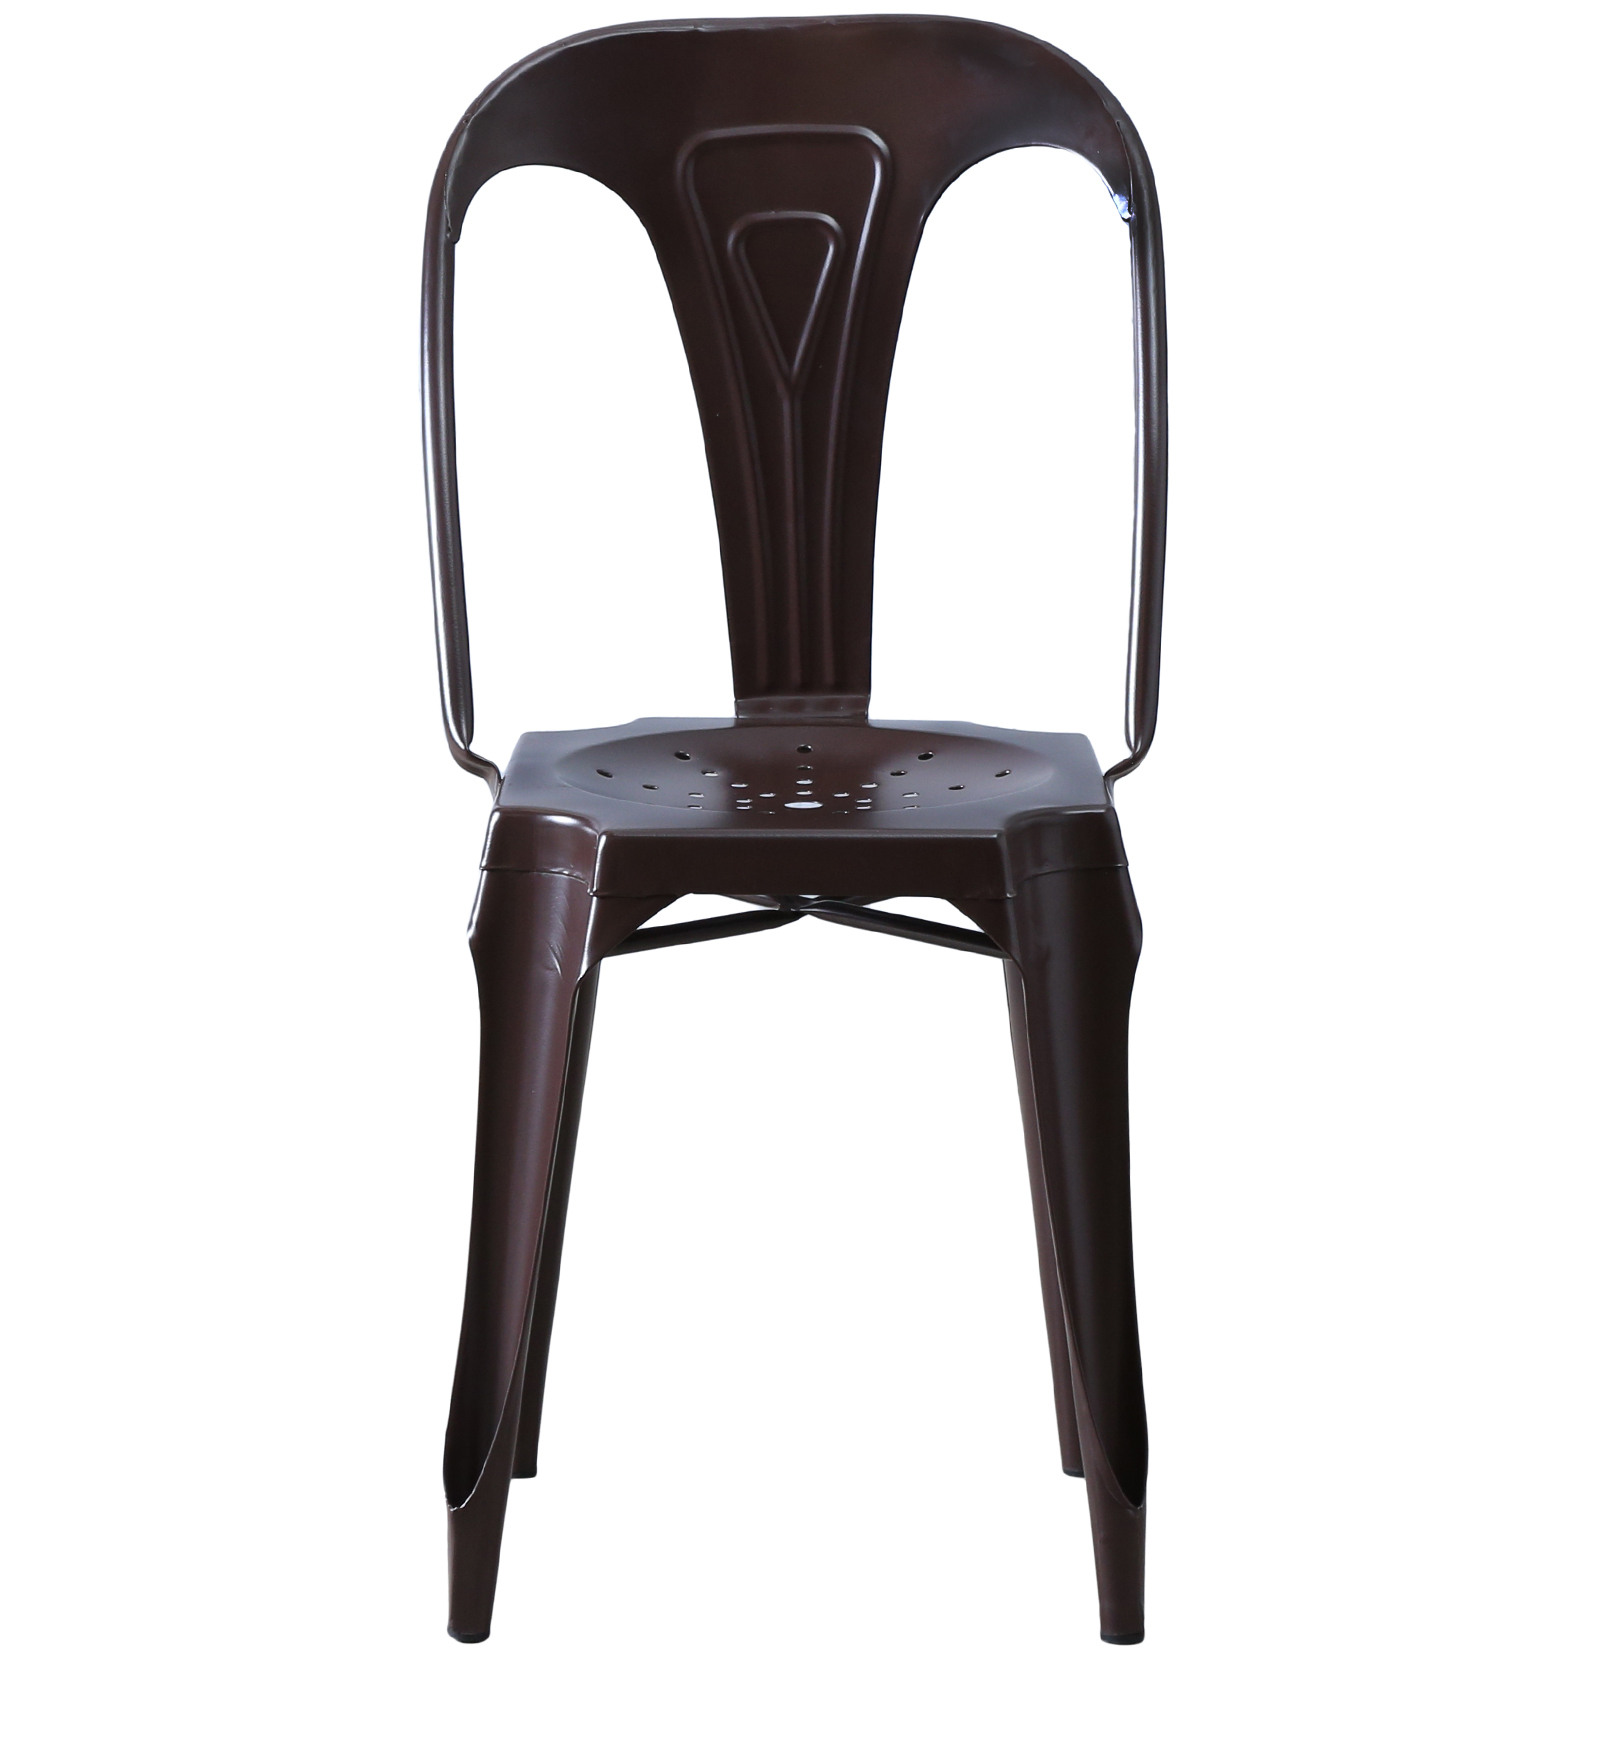Amos Metal Chair in Brown Color by Bohemiana: (368, 5, 1231, 1696)
